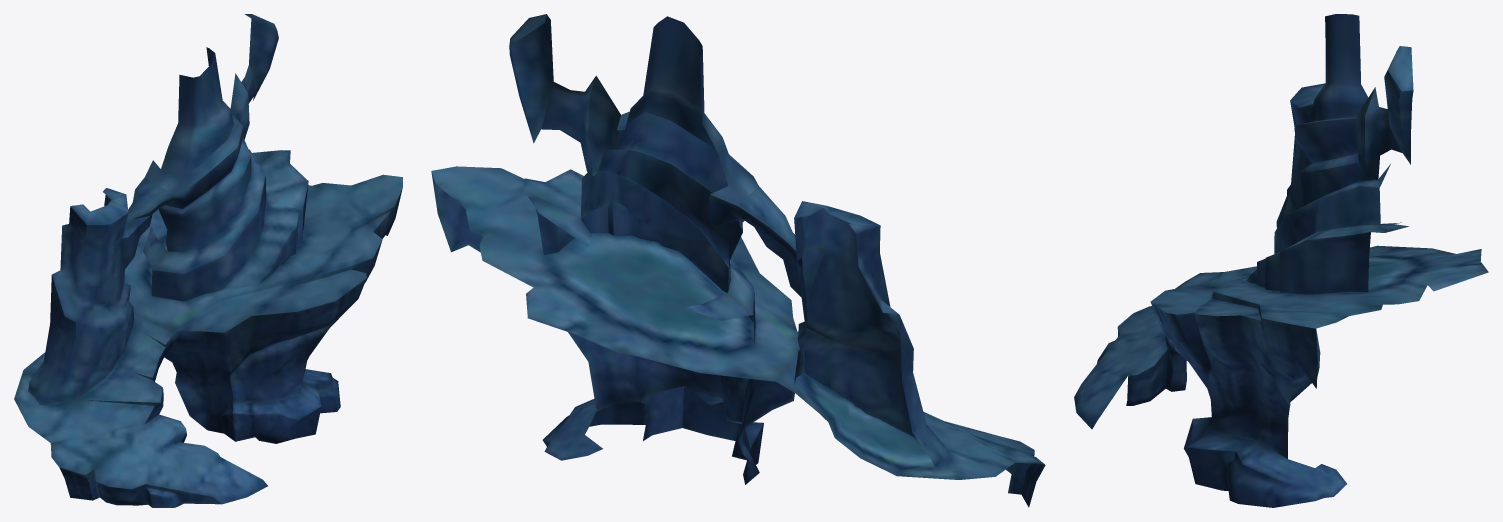
File: map_113_shitou_2.fbx
3 renders of one model, left to right at view 1: azimuth 30°, elevation 25°; view 2: azimuth 150°, elevation 25°; view 3: azimuth 270°, elevation 25°, orthographic. The views are drawn at different scales.
Visible parts, largest first — view 1: map_113_shitou_2; view 2: map_113_shitou_2; view 3: map_113_shitou_2.
Part boxes in pixels (<box>): map_113_shitou_2: <box>14,14,402,507</box>; map_113_shitou_2: <box>431,14,1045,507</box>; map_113_shitou_2: <box>1074,14,1488,507</box>.
Size of the model in its own units: 15.98 by 13.7 by 11.48.
